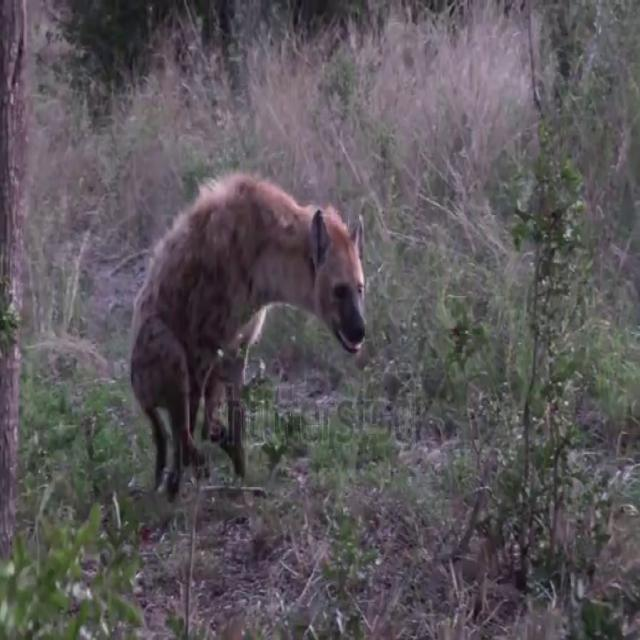normal_animals: (126, 167, 370, 502)
